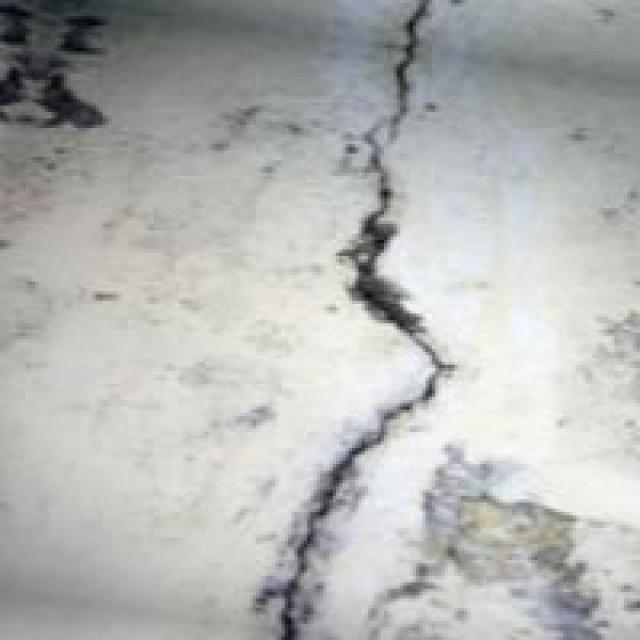Crack: (218, 0, 480, 637)
